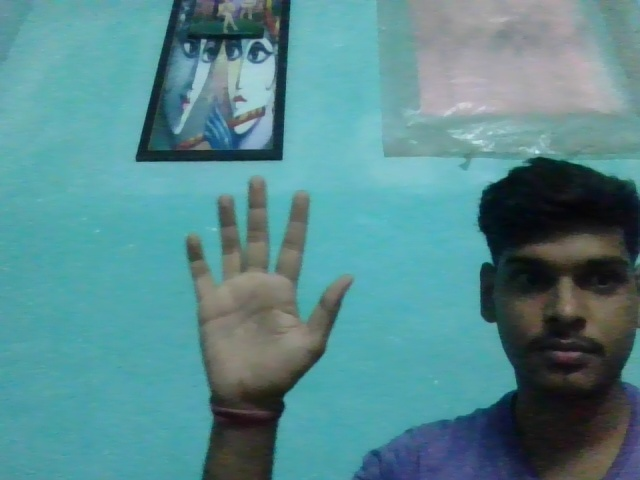hello: (179, 185, 365, 410)
